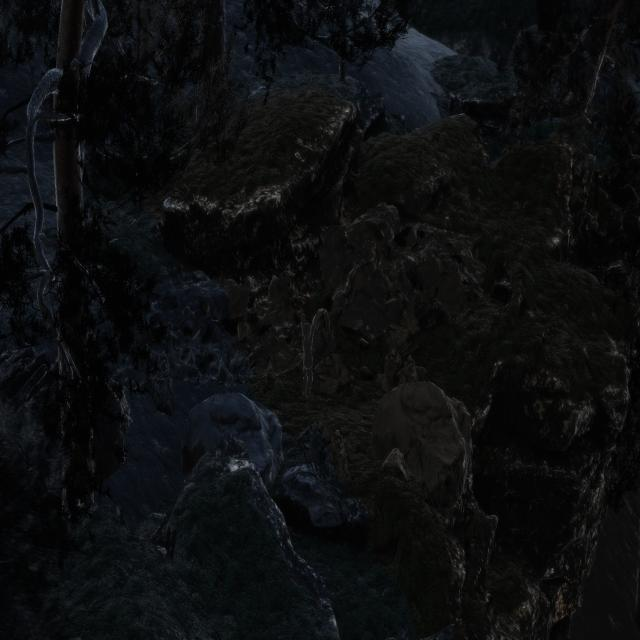Human: (289, 295, 320, 403)
